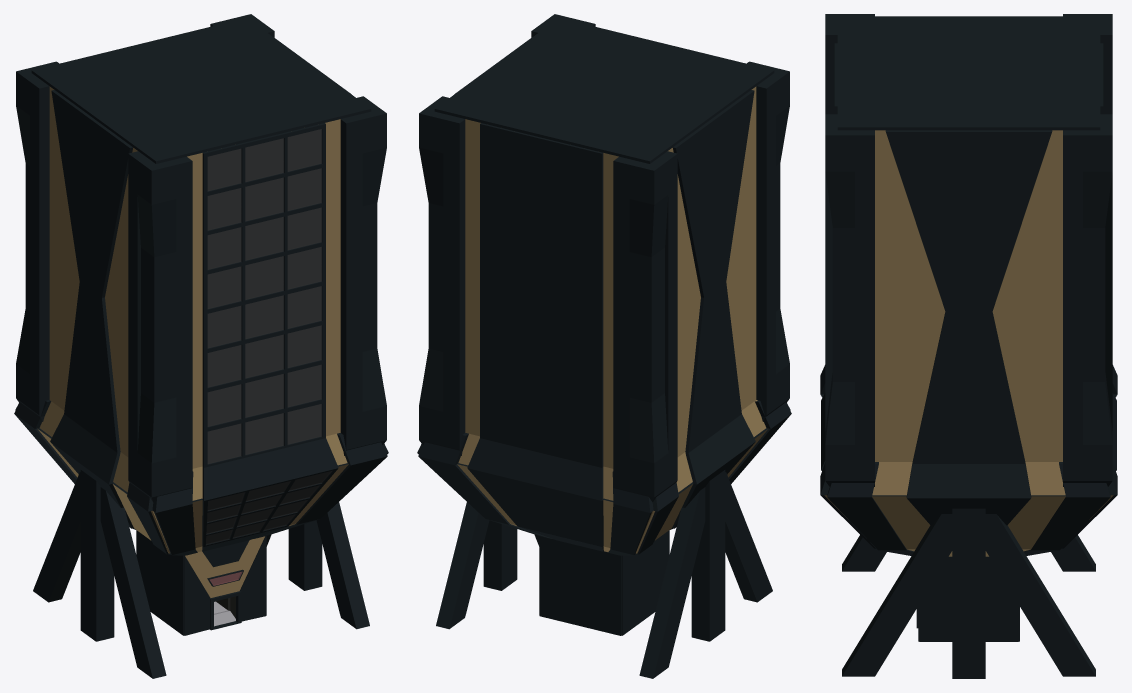
The model's file is CybP-NewApt.fbx.
3 renders of one model, left to right at view 1: azimuth 30°, elevation 25°; view 2: azimuth 150°, elevation 25°; view 3: azimuth 270°, elevation 25°, orthographic. The views are drawn at different scales.
Parts seen in each view (by area): view 1: CybP_NewApt; view 2: CybP_NewApt; view 3: CybP_NewApt.
Boxes of the visible parts, x1,y1,x2,y2 form: CybP_NewApt: (14, 14, 388, 678); CybP_NewApt: (417, 14, 791, 678); CybP_NewApt: (820, 14, 1117, 678).
Bounding box in the file's own units: 17.26 × 35.07 × 17.21.
